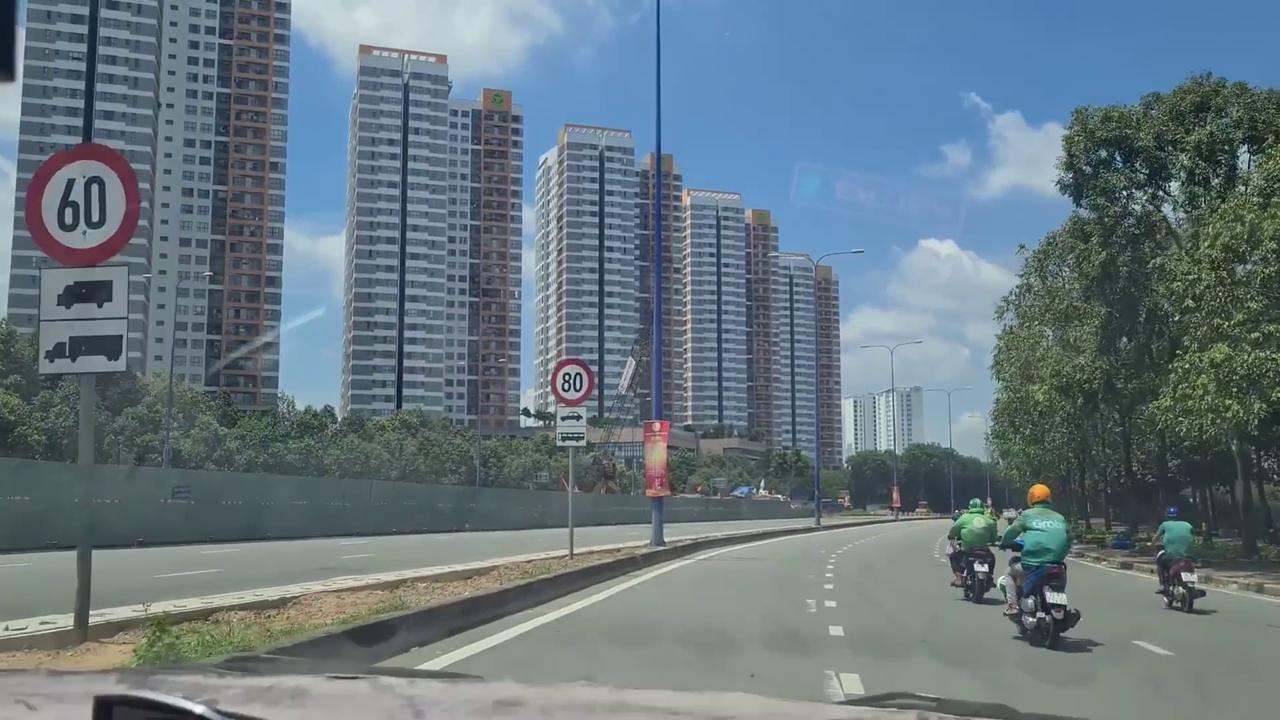Biển phụ: (37, 266, 129, 373), (554, 403, 588, 448)
GIơi hạn tốc độ 60Km/h: (24, 139, 143, 266)
Giới hạn tốc độ 80Km/h: (548, 356, 595, 406)
